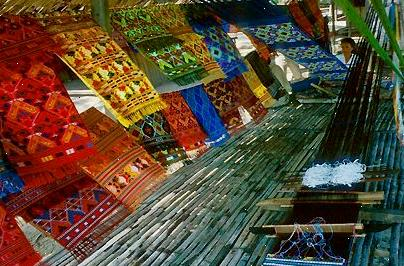malong: (0, 28, 98, 173), (59, 106, 194, 190), (53, 15, 162, 113), (13, 166, 145, 242), (250, 15, 359, 101), (131, 8, 212, 87), (151, 83, 223, 156), (181, 81, 239, 150), (126, 112, 201, 155)
